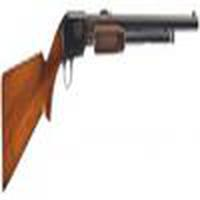gun: (2, 9, 199, 186)
